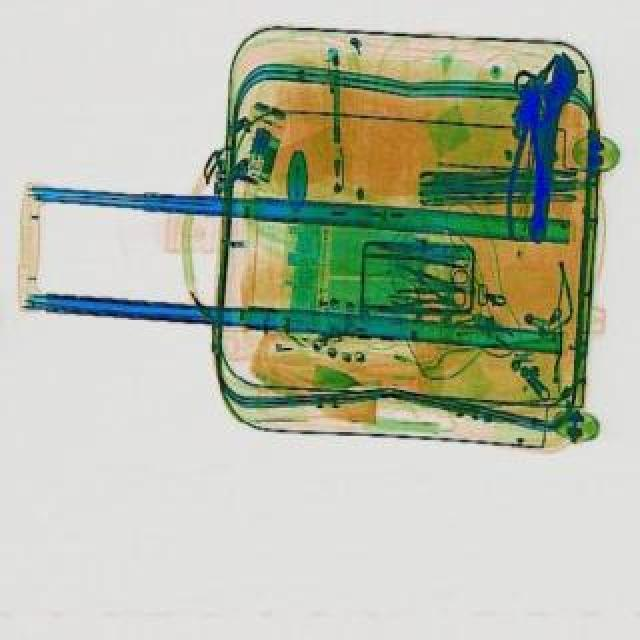pliers: (400, 238, 472, 282)
scissors: (506, 46, 578, 242)
wrench: (504, 90, 548, 236)
